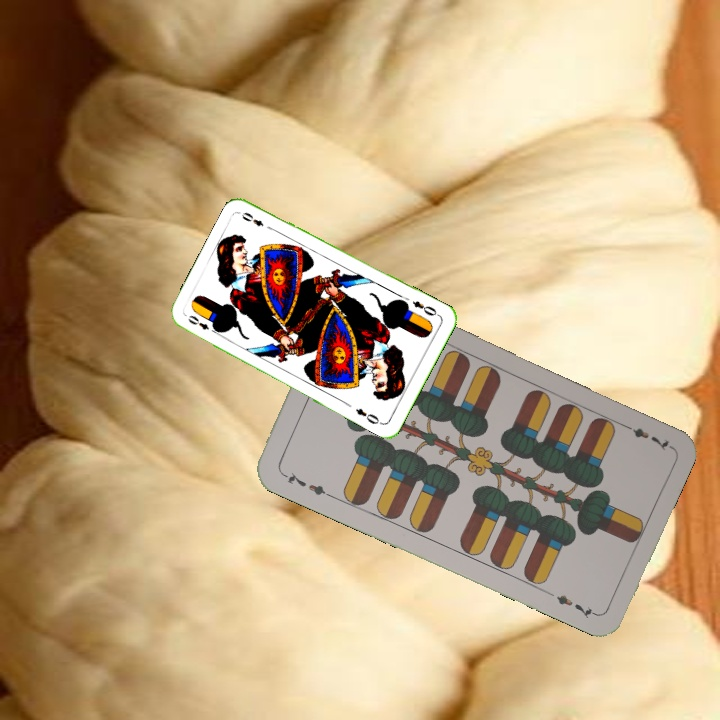E7: (617, 419, 673, 453), (277, 469, 333, 500)
EO: (184, 311, 220, 336), (408, 297, 443, 319)
